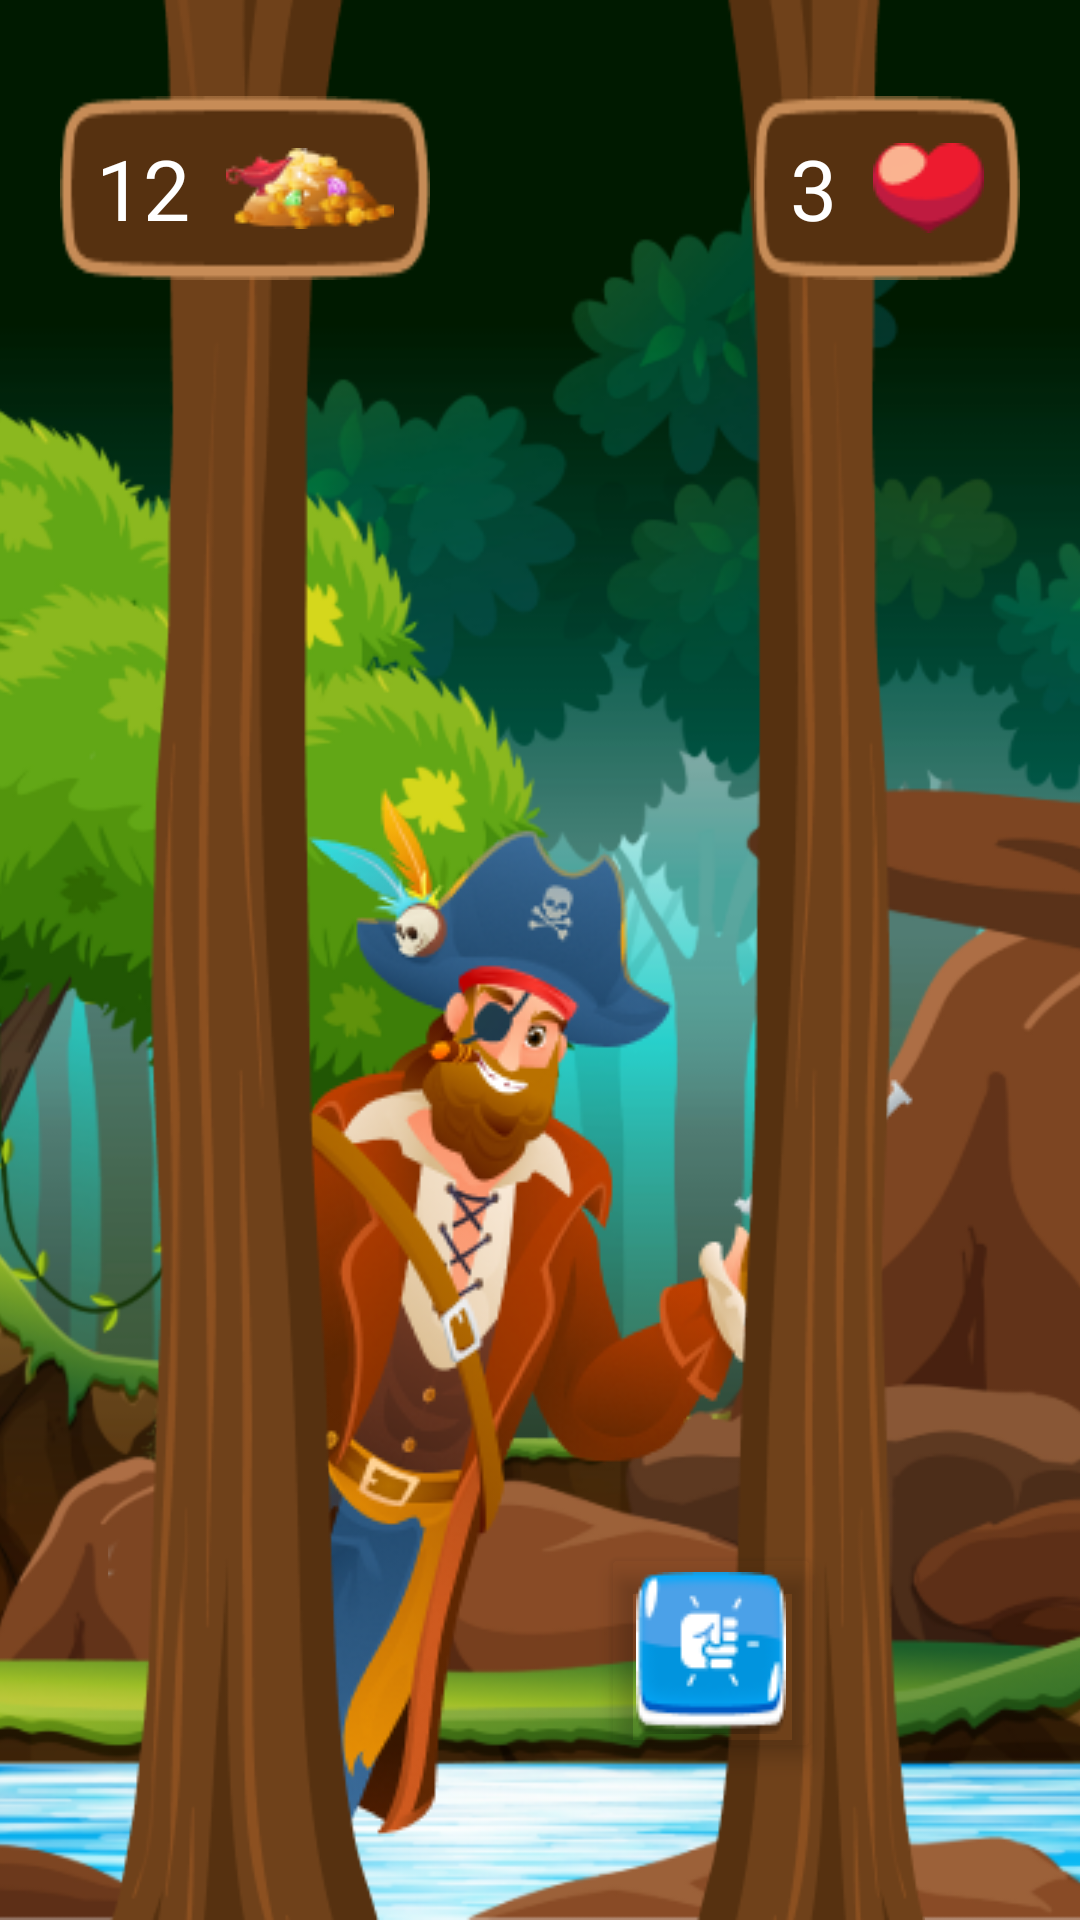

Icons on this 1080 x 1920 Android screen, each with its box as [x1, y1, x2, y2]:
heath: [873, 143, 984, 233]
score: [226, 148, 394, 229]
